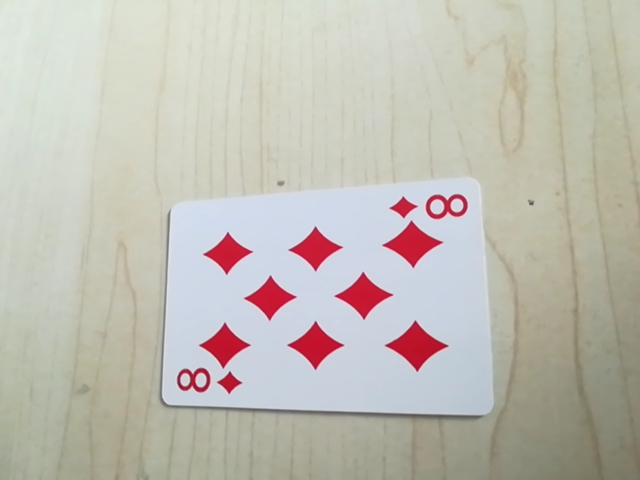fk 8: (387, 186, 472, 226), (169, 365, 244, 402)
